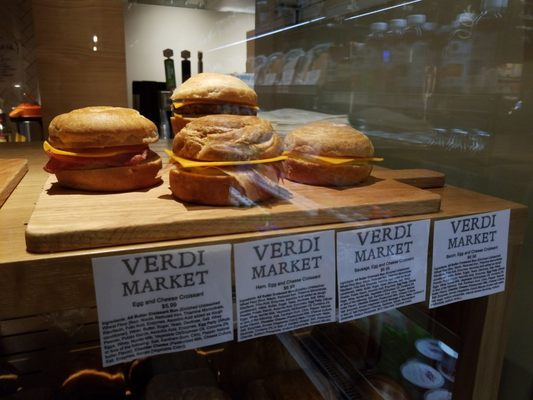sushi: (169, 71, 259, 124)
